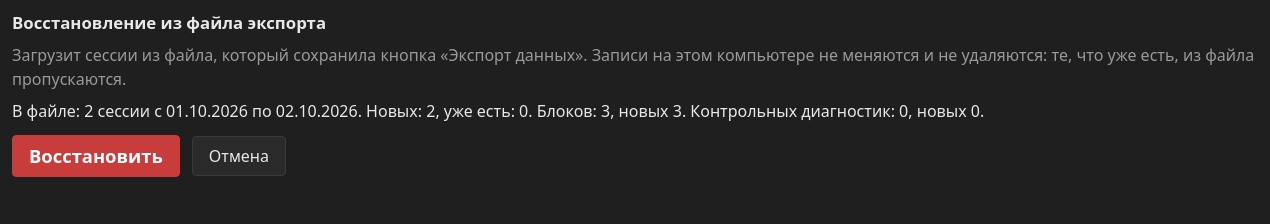
Test: RestoreSection › a stop shows its reason and what was added before it
Earlier steps of the test are not shown.
Click the button "Восстановить". click: (96, 156)
box: x1=12 y1=135 x2=180 y2=177
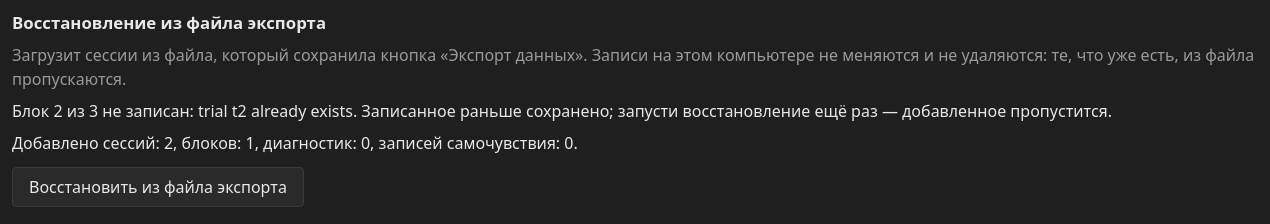
expect the text "Добавлено сессий: 2, блоков: 1, диагностик: 0, записей самочувствия: 0." is shown: met, box x1=12 y1=132 x2=578 y2=154
